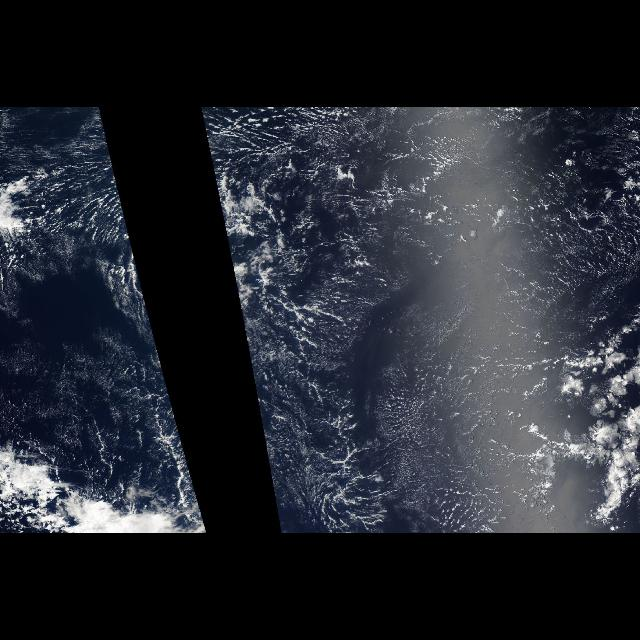Gravel: (244, 336, 498, 534), (133, 336, 207, 524)
Sugar: (272, 117, 586, 503)
